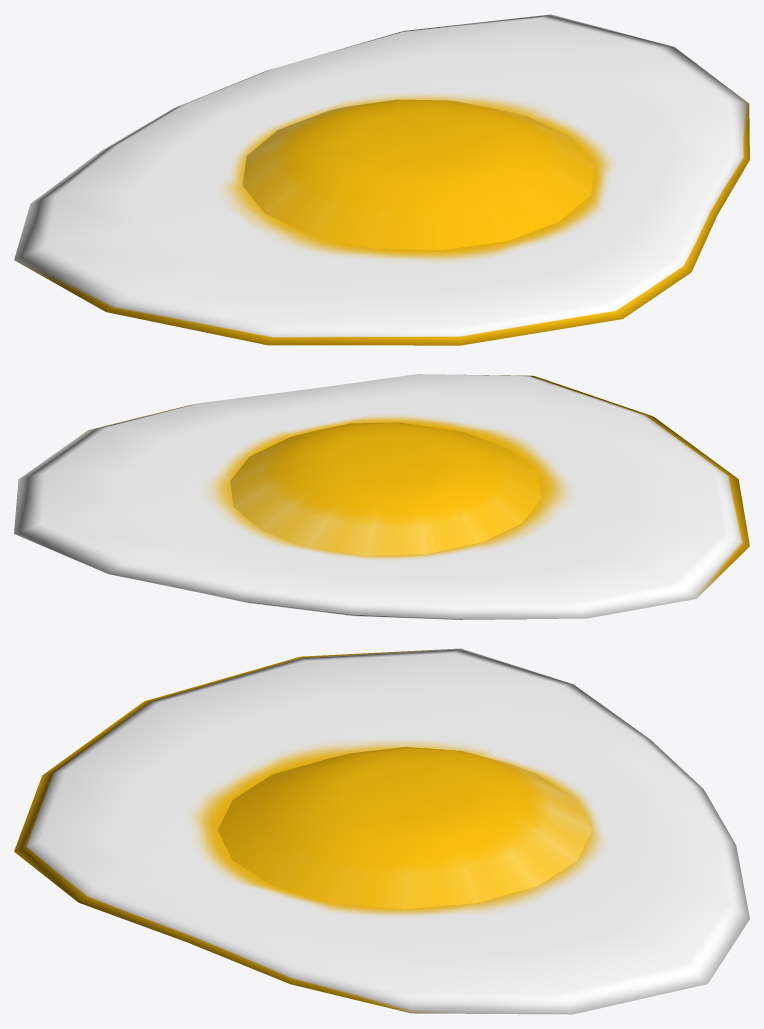
File: EggYolk.FBX
The picture shows the model from 3 angles, top to bottom: view 1: azimuth 30°, elevation 25°; view 2: azimuth 150°, elevation 25°; view 3: azimuth 270°, elevation 25°; orthographic projection. The views are drawn at different scales.
Parts seen in each view (by area): view 1: EggYolk; view 2: EggYolk; view 3: EggYolk.
Part boxes in pixels (x1,y1,x2,y2): EggYolk: (14,14,749,345); EggYolk: (14,374,749,619); EggYolk: (14,648,749,1014).
Bounding box in the file's own units: 16.07 × 1.28 × 13.66.
Materials: 1 (1 with a texture image).
